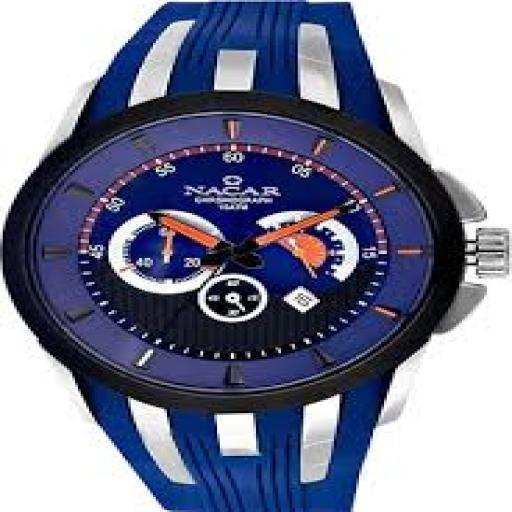KolSaati: (5, 1, 512, 512)
